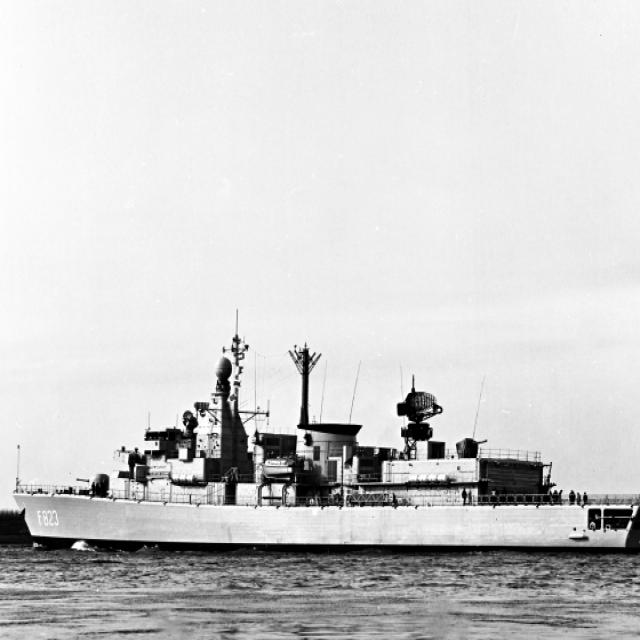Fragata: (6, 317, 640, 564)
